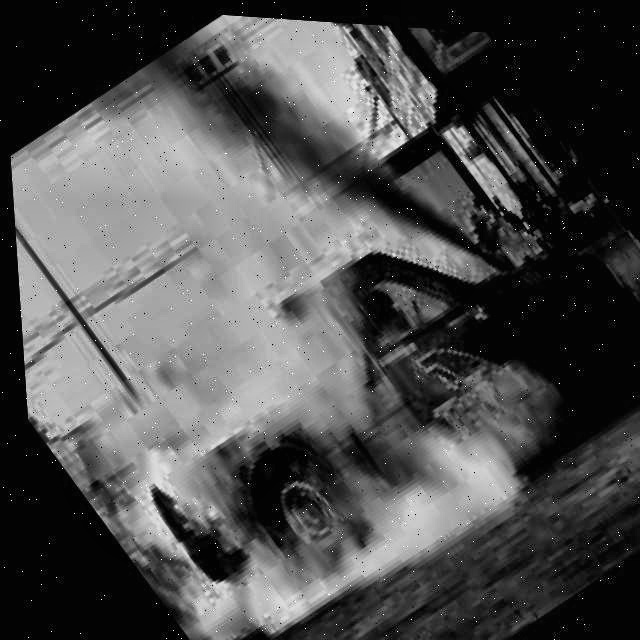Smoke: (11, 201, 525, 640), (53, 3, 530, 431)
